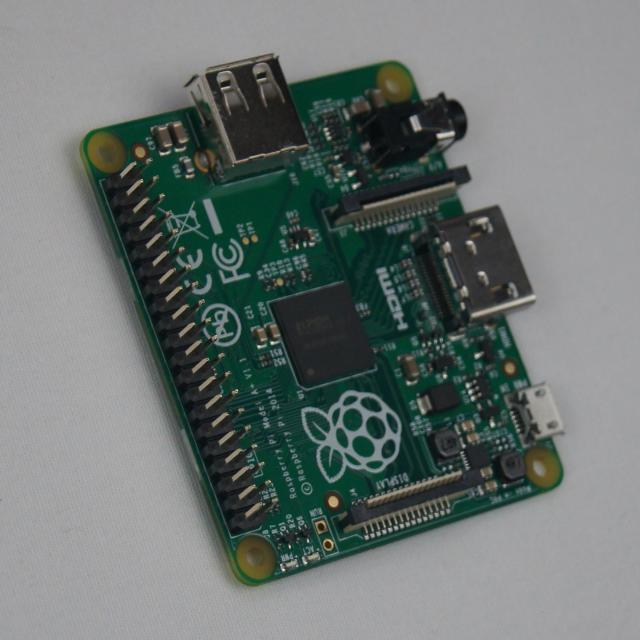Raspberry-Pi-1-A-: (83, 56, 564, 585)
